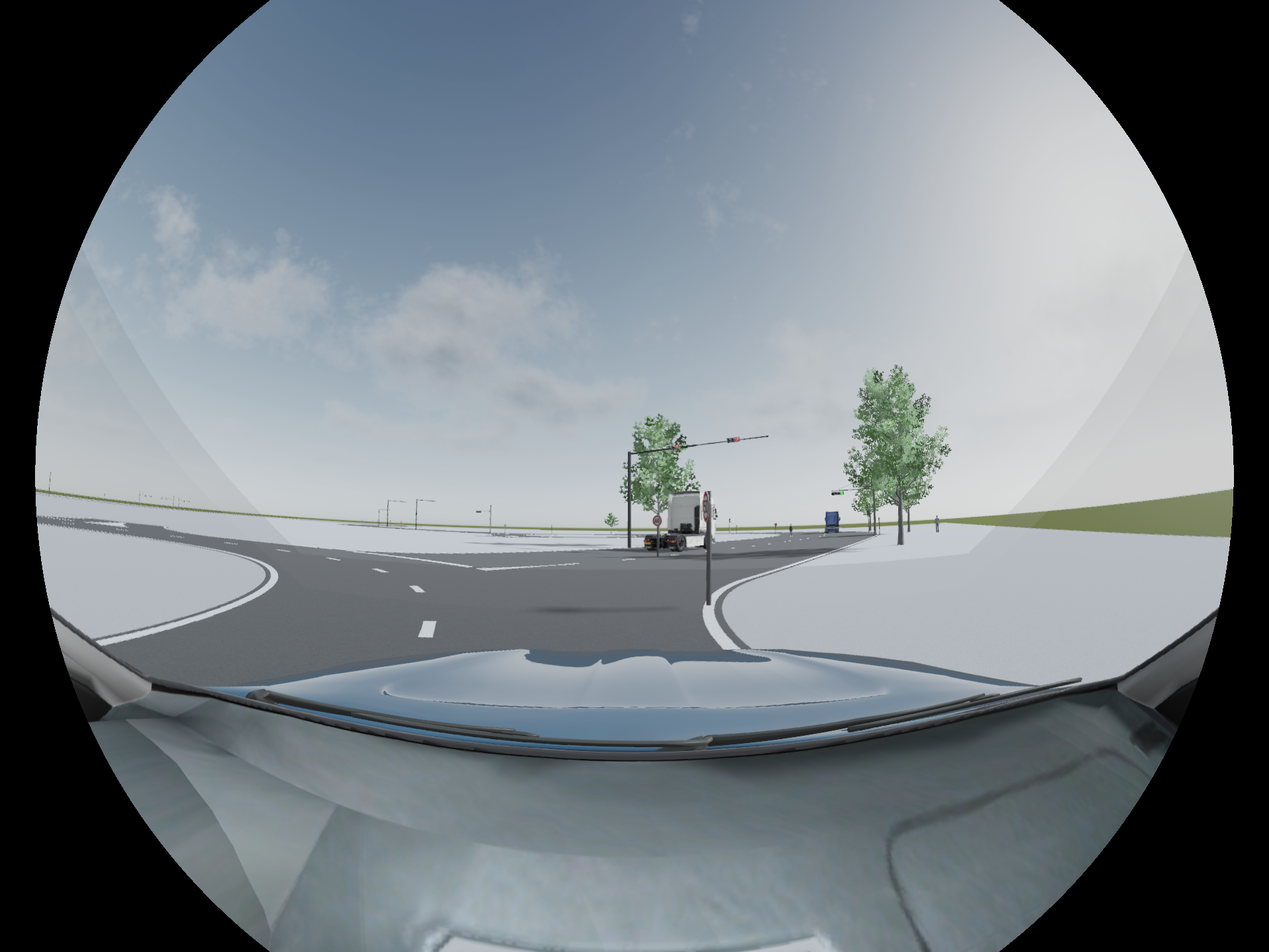Green Light: (831, 491, 845, 496)
Red Light: (726, 437, 740, 443)
Speed Limit 60: (653, 516, 662, 525)
